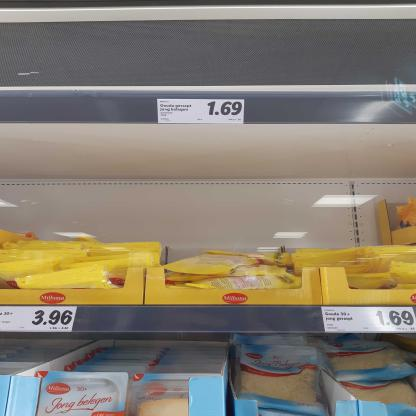prtg: (322, 308, 415, 333), (158, 100, 245, 125), (1, 307, 79, 334)
